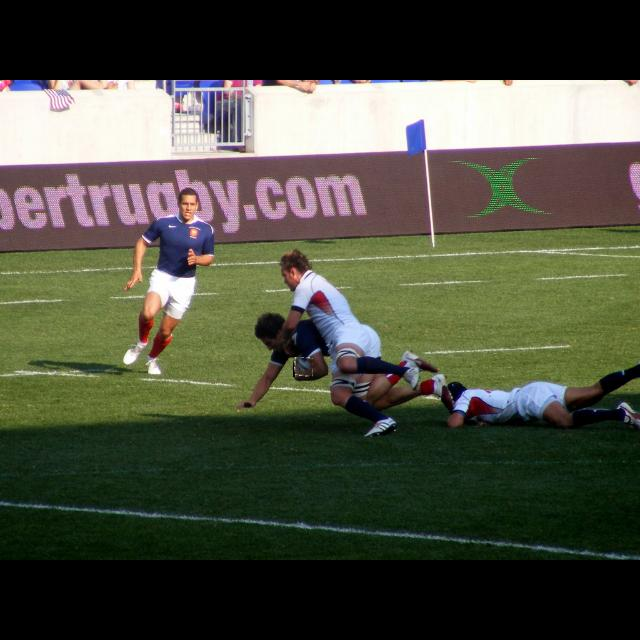Football: (293, 357, 313, 377)
